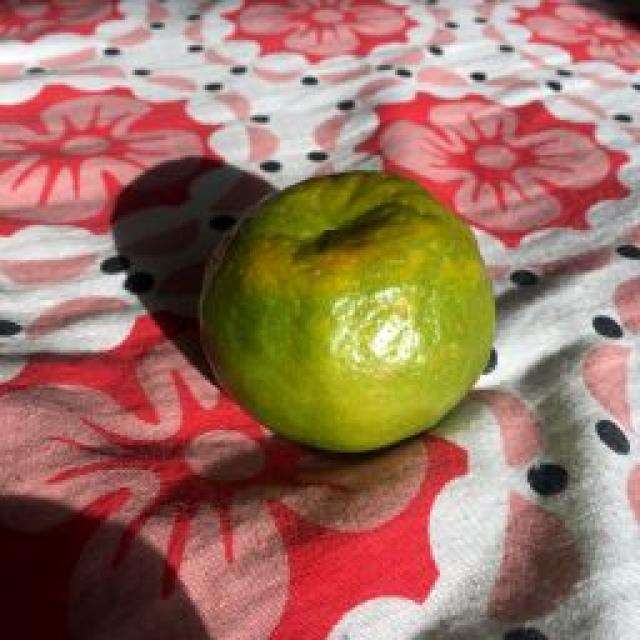Good_Orange: (200, 172, 495, 455)
